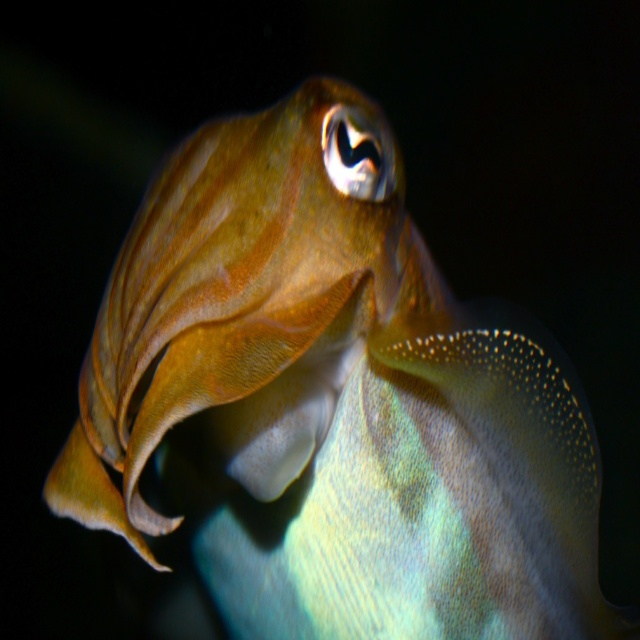Squid: (40, 73, 625, 640)
